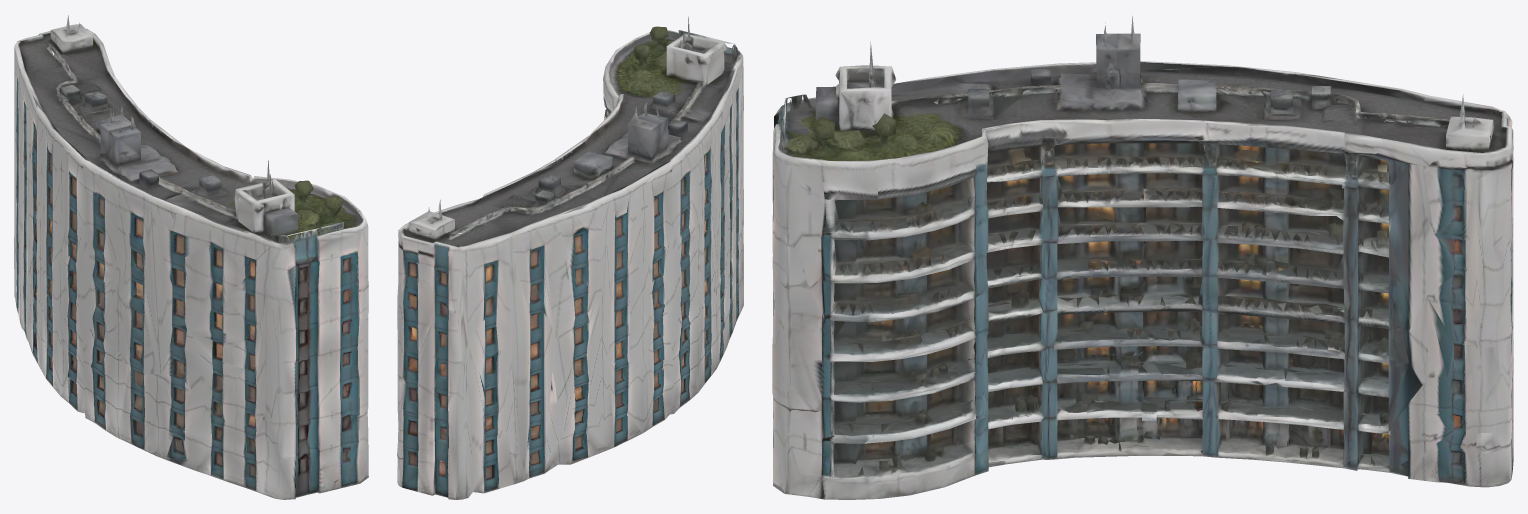
File: curvedTerrace.glb
3 views of the same model, side by side, from view 1: azimuth 30°, elevation 25°; view 2: azimuth 150°, elevation 25°; view 3: azimuth 270°, elevation 25° (orthographic). The views are drawn at different scales.
Parts seen in each view (by area): view 1: curvedTerrace; view 2: curvedTerrace; view 3: curvedTerrace.
Boxes of the visible parts, x1=… form: curvedTerrace: x1=14, y1=15, x2=368, y2=499; curvedTerrace: x1=397, y1=16, x2=743, y2=499; curvedTerrace: x1=772, y1=16, x2=1513, y2=499.
Bounding box in the file's own units: 17.38 × 32 × 52.5.
1 material, 1 textured.
